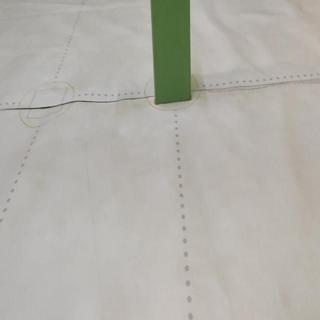greenbox: (146, 0, 199, 104)
